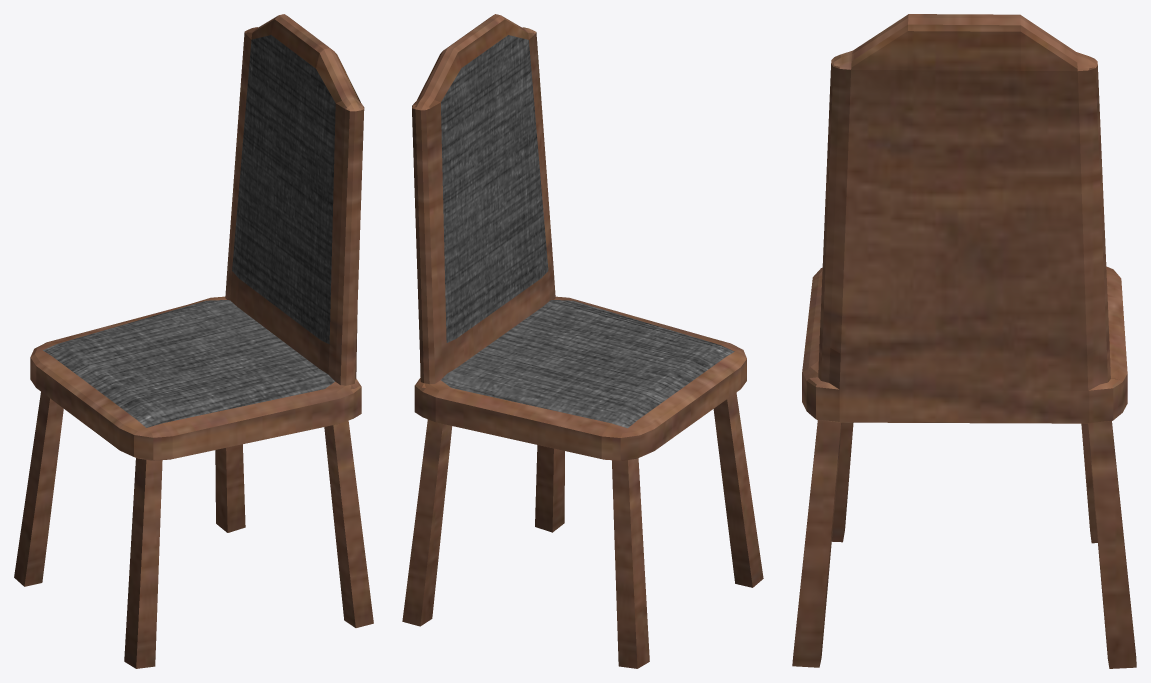
File: CHAIR_04.fbx
The picture shows the model from 3 angles, left to right: view 1: azimuth 30°, elevation 25°; view 2: azimuth 150°, elevation 25°; view 3: azimuth 270°, elevation 25°; orthographic projection. The views are drawn at different scales.
Parts seen in each view (by area): view 1: CHAIR_04; view 2: CHAIR_04; view 3: CHAIR_04.
Boxes of the visible parts, <box> form: CHAIR_04: <box>14,14,373,668</box>; CHAIR_04: <box>402,14,763,668</box>; CHAIR_04: <box>792,14,1136,668</box>.
Size of the model in its own units: 57.85 by 124 by 59.09.
